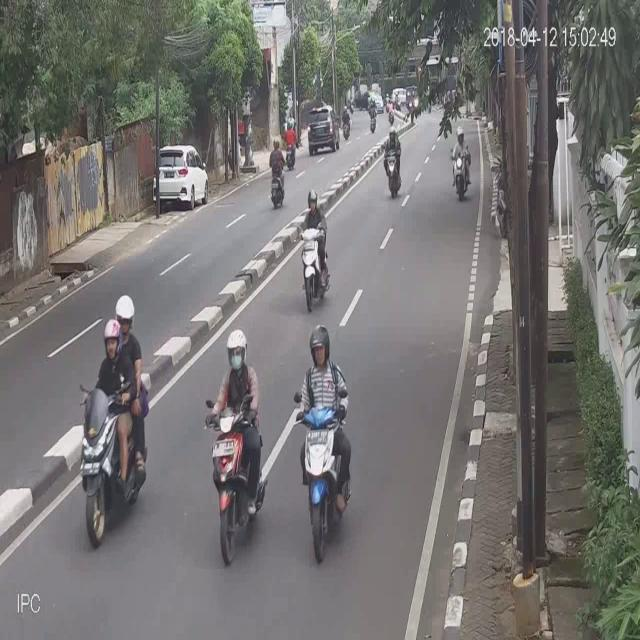bus: (78, 294, 152, 548), (205, 327, 267, 567), (293, 323, 352, 566), (300, 185, 330, 314), (449, 121, 473, 203), (382, 122, 402, 201), (268, 132, 286, 210), (284, 115, 298, 173)
motorcycle: (153, 140, 209, 210), (306, 102, 340, 156)
